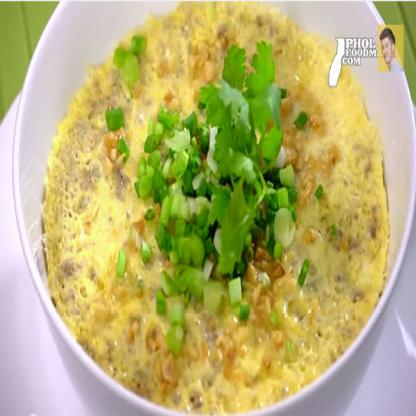Kaithoon: (40, 6, 395, 415)
